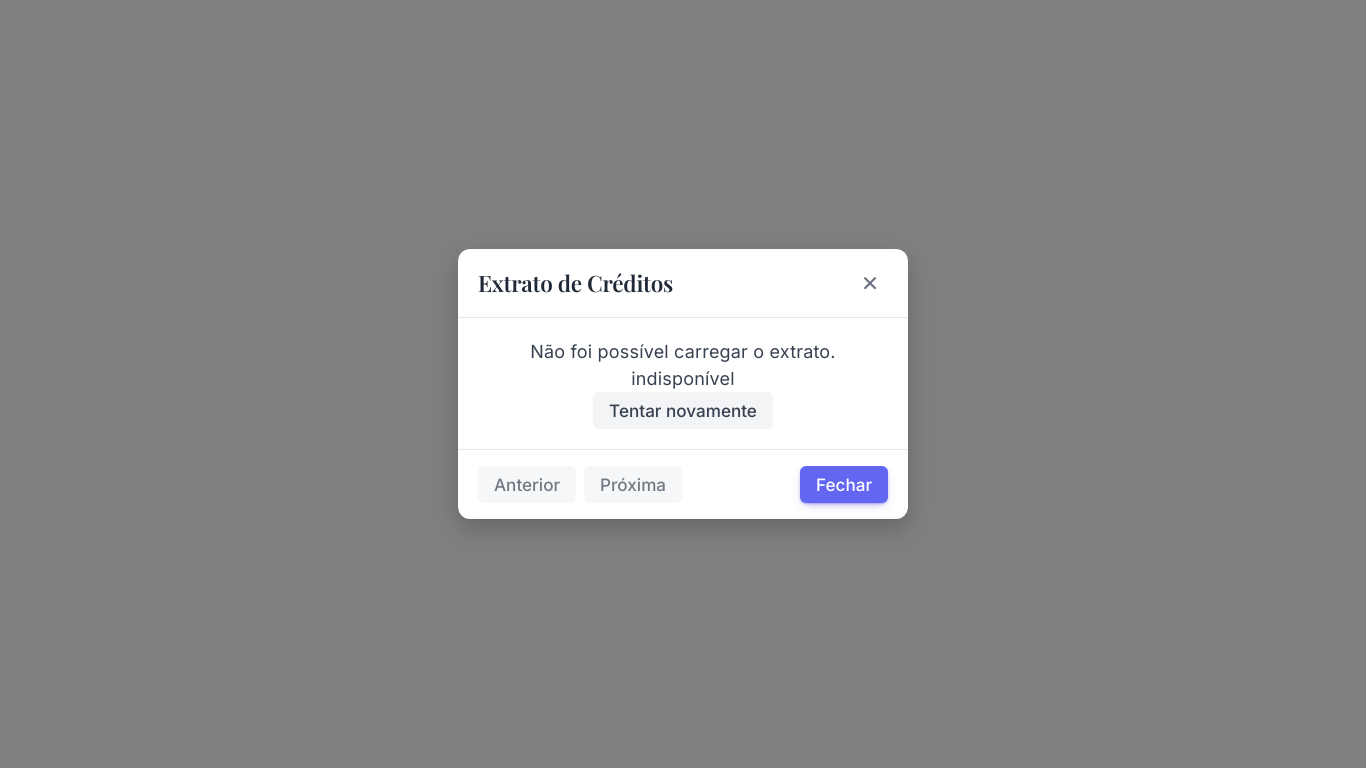
it: TransactionsModal › mostra erro e permite tentar carregar novamente
Expected: the message shows "Não foi possível carregar o extrato", [530,341,836,389]
What coordinates should you click on to do the following:
click the button "Tentar novamente"
I would click on:
 (683, 410)
Its box is [593,392,773,429].
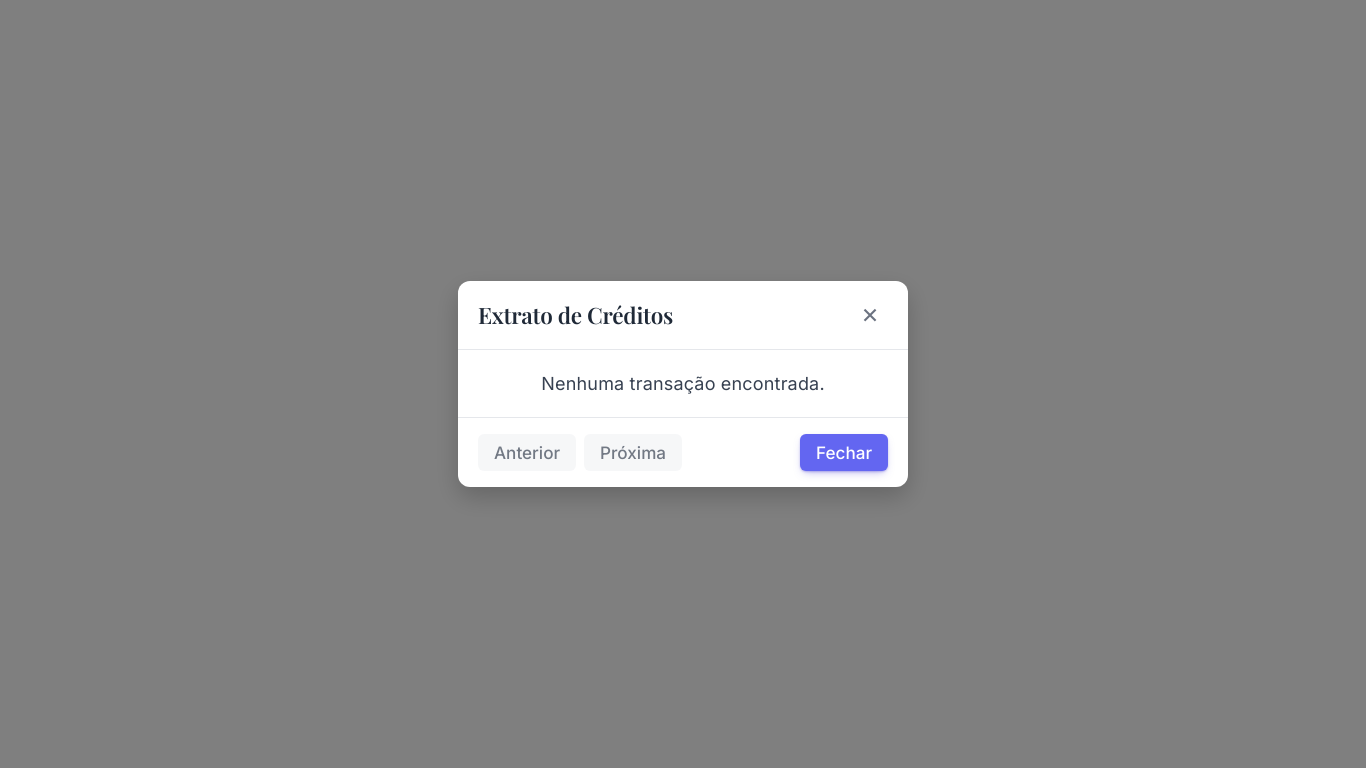
Now the text "Nenhuma transação encontrada." is shown, box [541,373,825,394]
